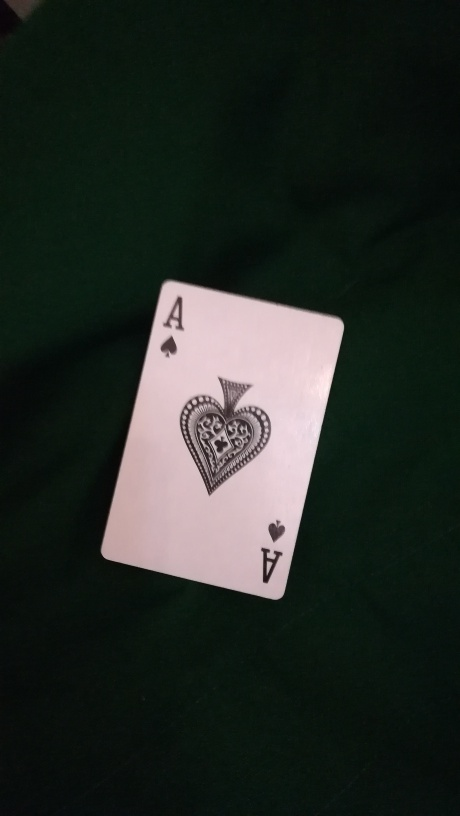ht a: (92, 278, 353, 603)
